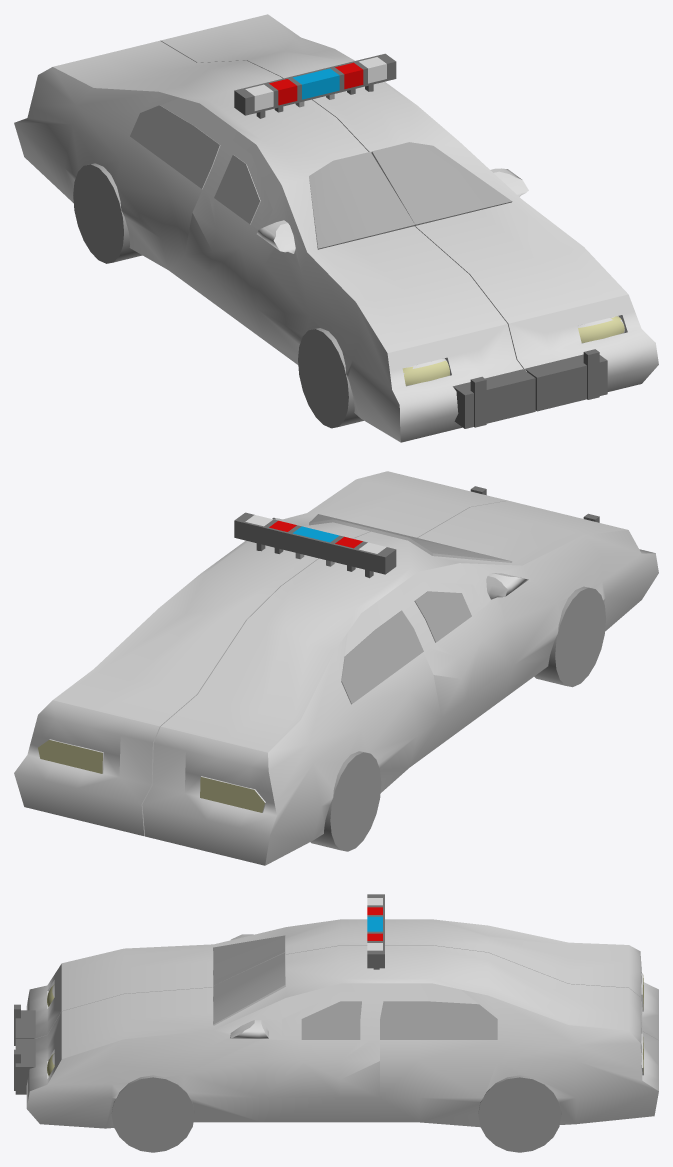
The model's file is White Police Car.fbx.
The picture shows the model from 3 angles, top to bottom: view 1: azimuth 30°, elevation 25°; view 2: azimuth 150°, elevation 25°; view 3: azimuth 270°, elevation 25°; orthographic projection. The views are drawn at different scales.
Visible parts, largest first — view 1: polySurface3; view 2: polySurface3; view 3: polySurface3.
Part boxes in pixels (x1,y1,x2,y2): polySurface3: [14, 14, 658, 442]; polySurface3: [14, 471, 658, 865]; polySurface3: [14, 894, 658, 1152].
Bounding box in the file's own units: 1.74 × 1.39 × 4.59.
